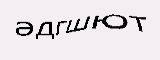З: (85, 19, 100, 45)
П: (71, 24, 84, 46)
С: (55, 26, 71, 46)
Т: (103, 18, 123, 42), (40, 24, 56, 44)
